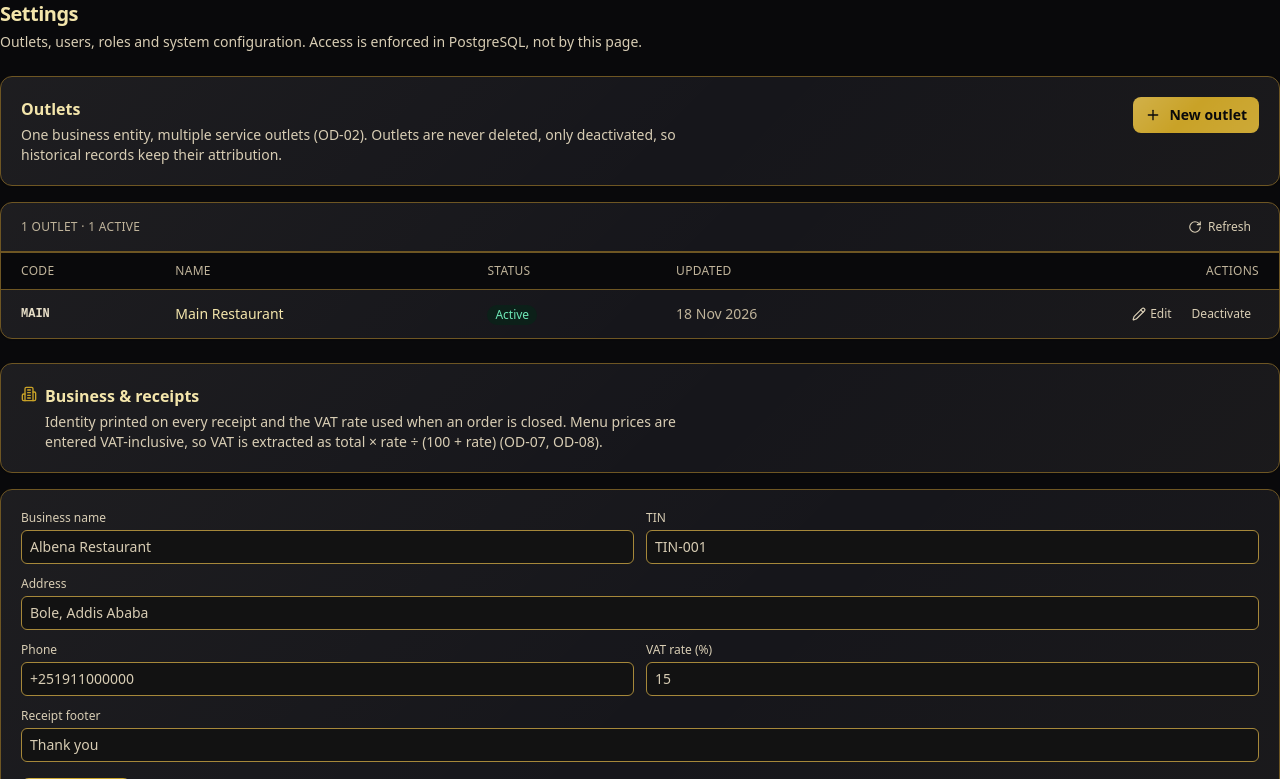
Settings — outlets › deactivates an outlet without deleting it
Expected: the text "Main Restaurant" is shown, left=155, top=290, right=467, bottom=338
Click the button "Deactivate" at (1221, 314), box left=1184, top=302, right=1259, bottom=326
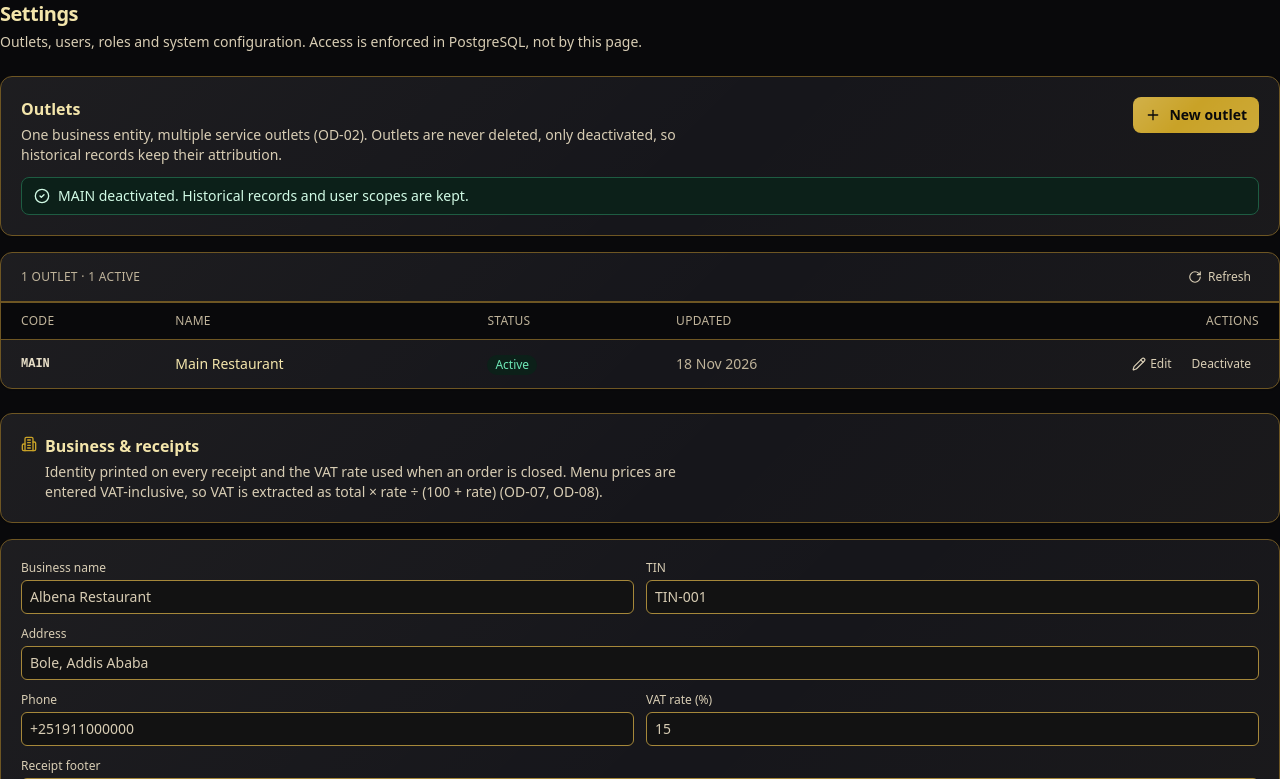
Expected: the message shows "deactivated", left=58, top=186, right=469, bottom=205
